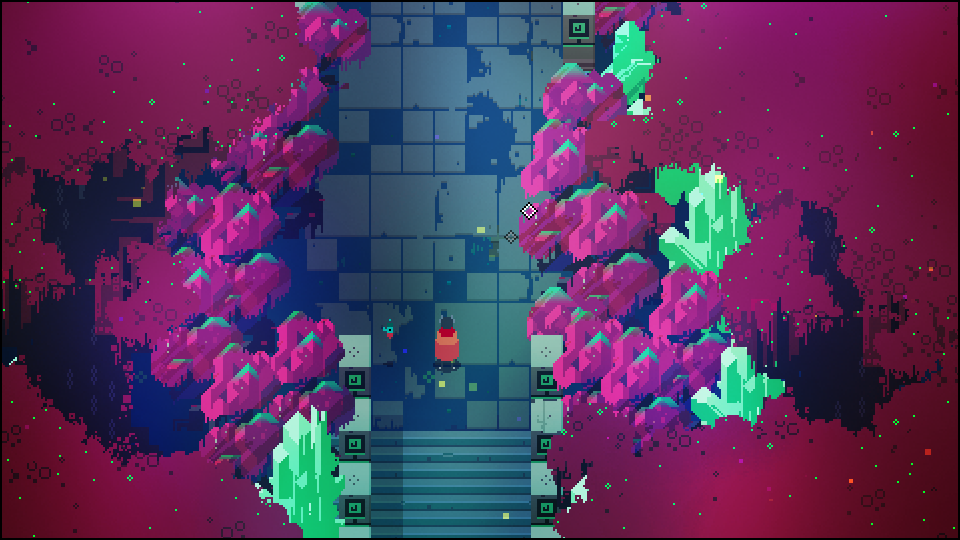player: (435, 318, 463, 373)
